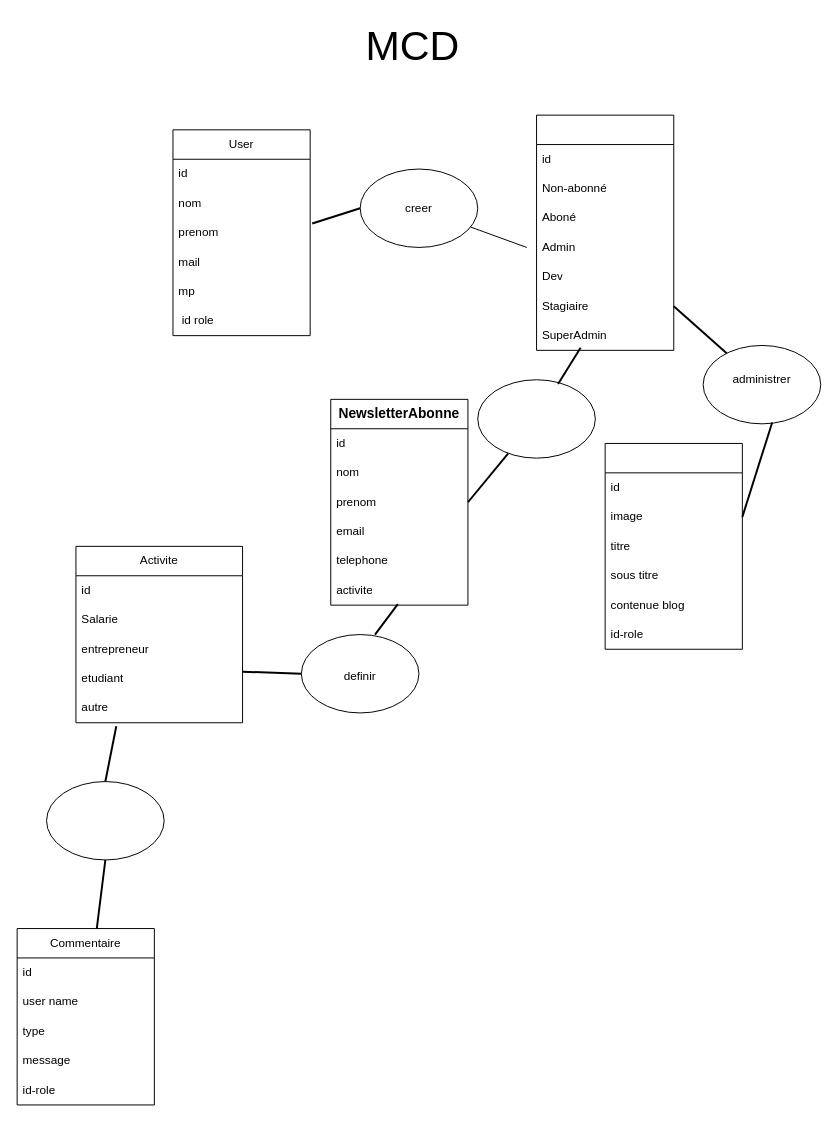
Image size: 838x1122. Some labels were removed from this diagram. The shapes that lost their labels are listed below. From the top down, each one's box as (x1, y1, x2, y2) in pixels, then its label:
(536, 114, 674, 350): Role
(477, 379, 595, 458): abonner
(604, 442, 742, 649): ArticleBlog
(46, 781, 164, 860): rediger
